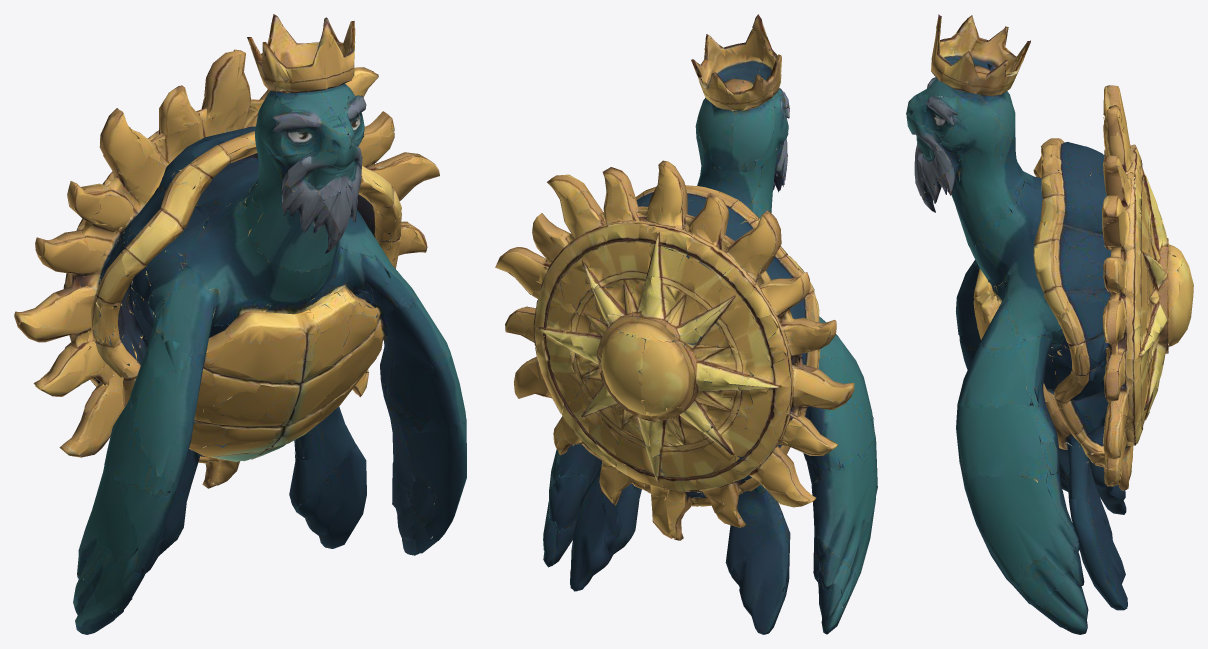
3 renders of one model, left to right at view 1: azimuth 30°, elevation 25°; view 2: azimuth 150°, elevation 25°; view 3: azimuth 270°, elevation 25°, orthographic. The views are drawn at different scales.
Visible parts, largest first — view 1: Mesh_0; view 2: Mesh_0; view 3: Mesh_0.
Part boxes in pixels (box(x1,y1,x2,y2)): Mesh_0: box(14, 14, 466, 634); Mesh_0: box(495, 14, 877, 634); Mesh_0: box(906, 14, 1193, 634).
Size of the model in its own units: 1.32 by 1.9 by 0.8973.
1 material, 1 textured.
